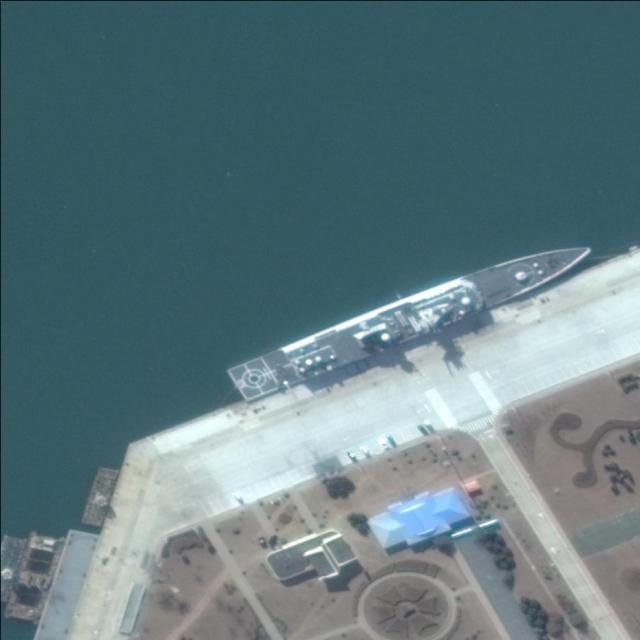Auxiliary Ships: (226, 226, 601, 408)
